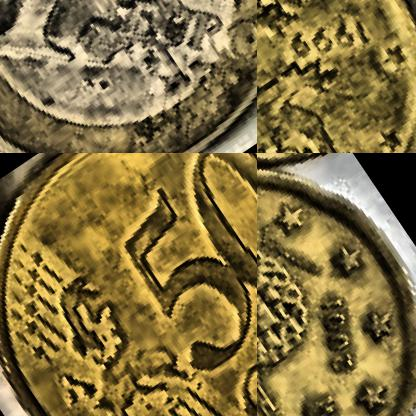coin: (0, 153, 256, 415), (257, 153, 415, 415), (0, 0, 256, 152), (257, 0, 415, 152)
